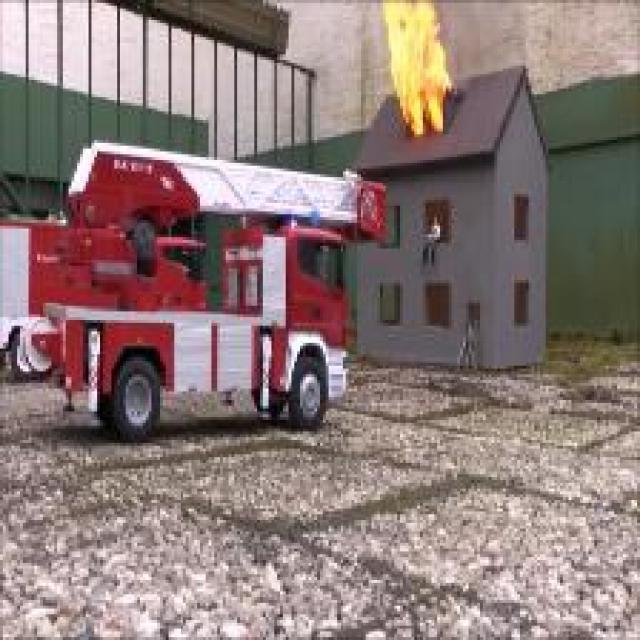Fire: (385, 0, 451, 134)
